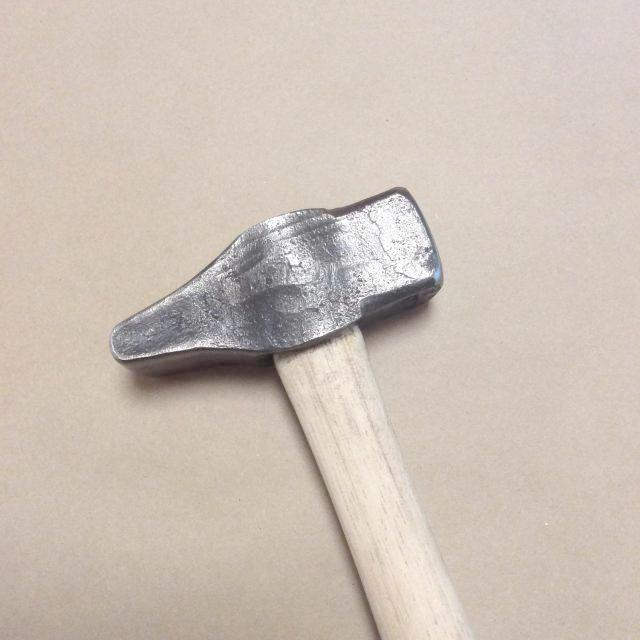hammer: (106, 180, 463, 640)
